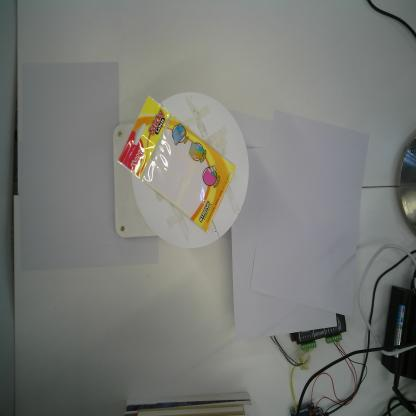Stationery: (116, 92, 237, 235)
